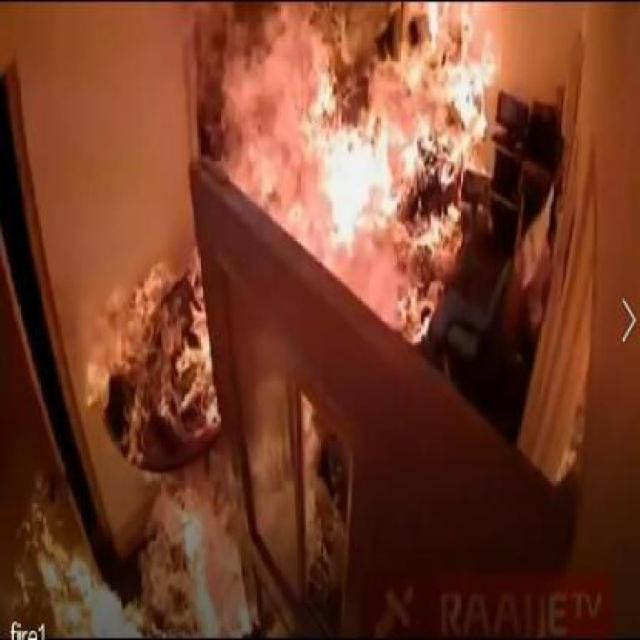Fire: (279, 3, 501, 196), (86, 264, 220, 440), (144, 487, 252, 636), (277, 193, 468, 270), (17, 522, 131, 638), (222, 34, 276, 188), (354, 266, 440, 342)
